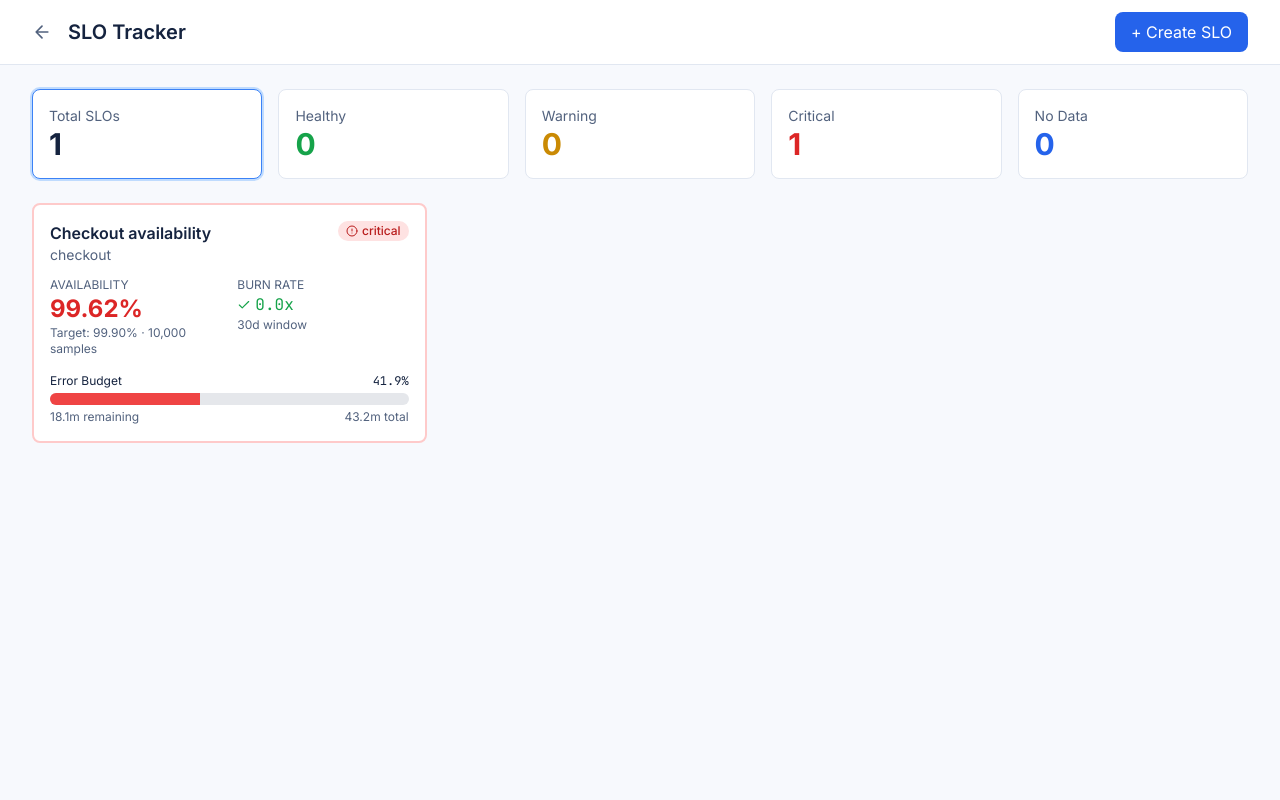
Test: SLO time to exhaustion › says nothing is projected rather than "N/A" when the tracker projects nothing
This screenshot has width=1280, height=800.
Click the heading "Checkout availability": (131, 233) x1=50 y1=221 x2=211 y2=245
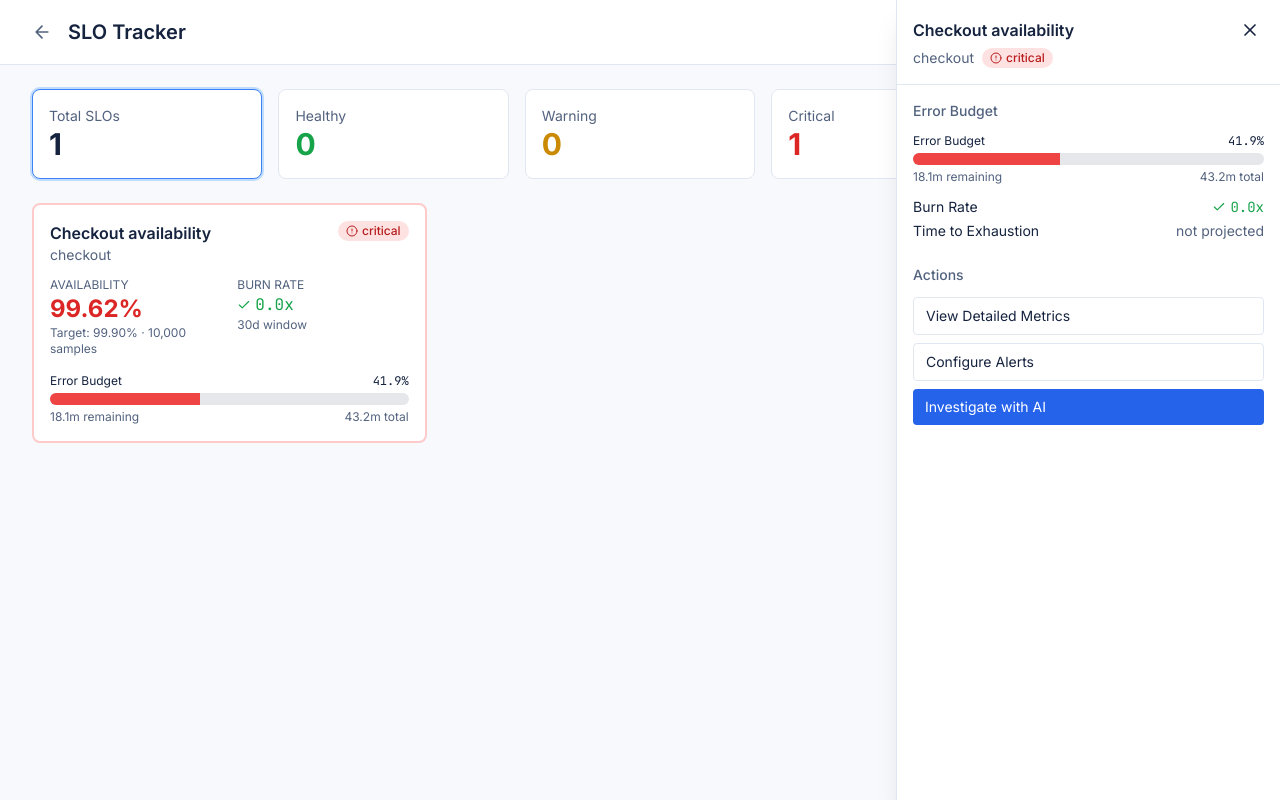
Check: the text "not projected" is shown, box x1=1176 y1=221 x2=1264 y2=241
